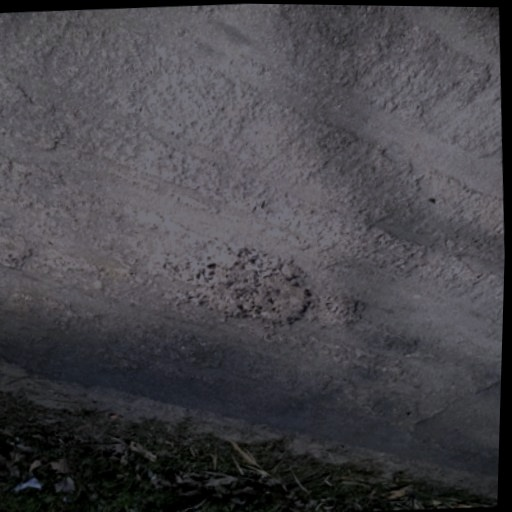pothole: (167, 235, 318, 338)
